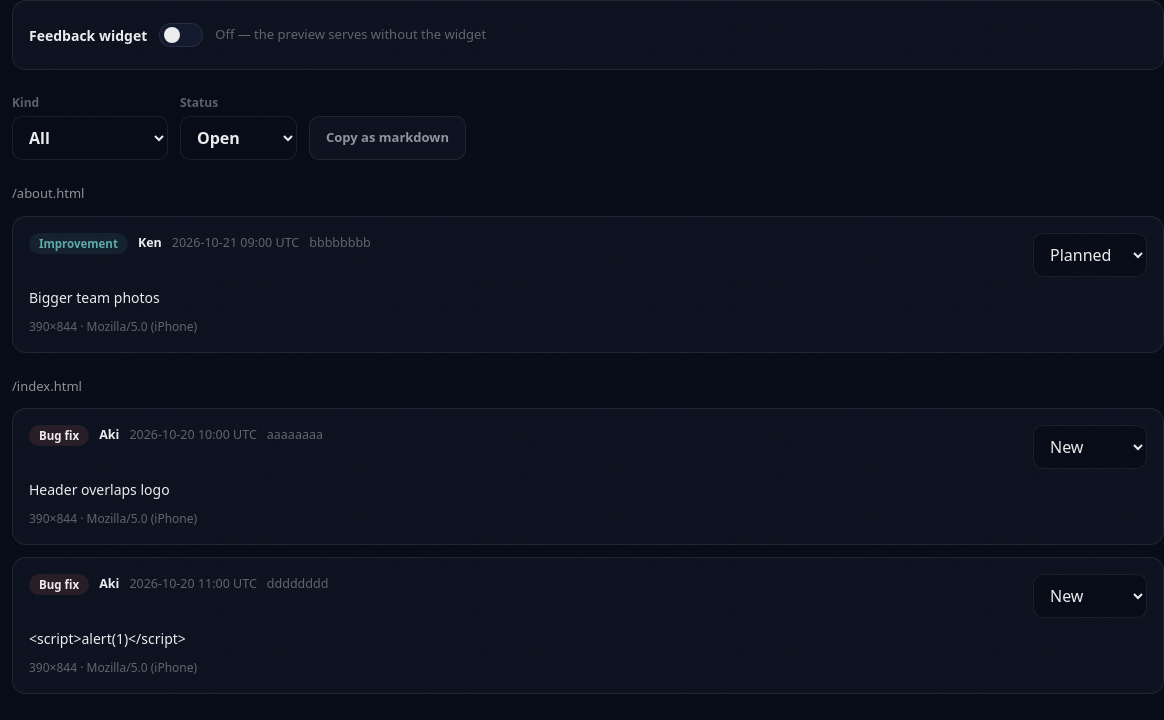
Test: AdminPreviewFeedback › "Copy as markdown" writes the expected string (with short ids) to the clipboard
Click the button "Copy as markdown".
click(388, 138)  # box left=309, top=116, right=466, bottom=160
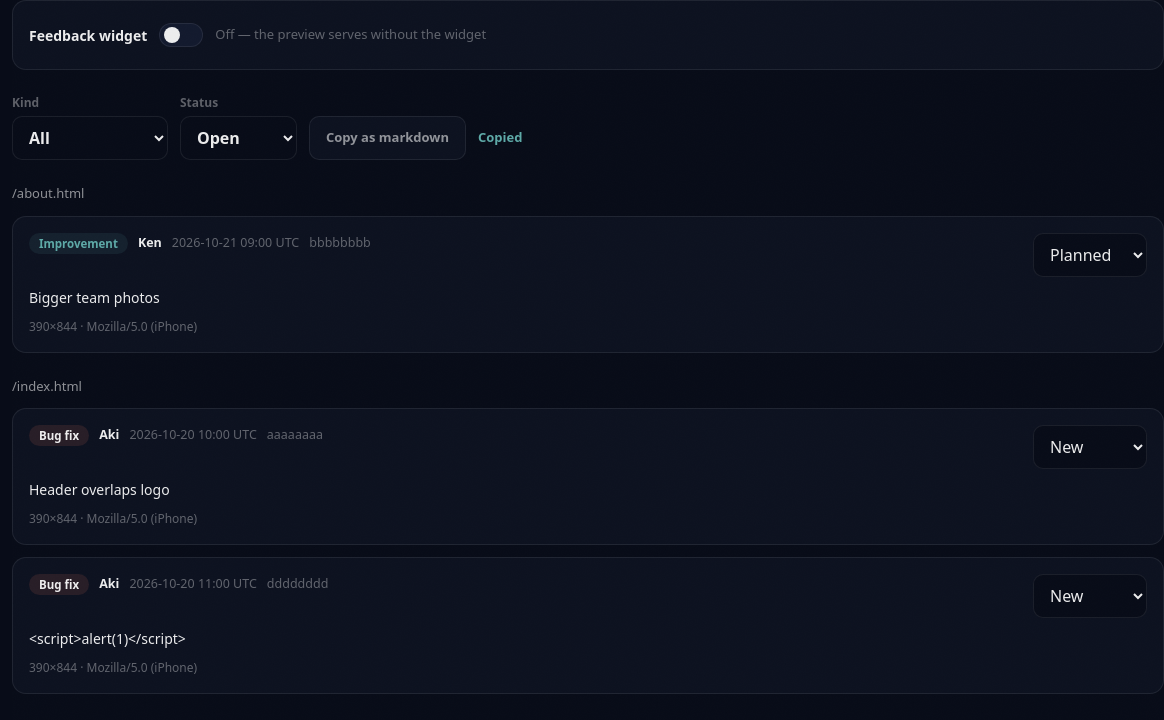
Check: the text "Copied" is shown, box left=478, top=128, right=522, bottom=148
